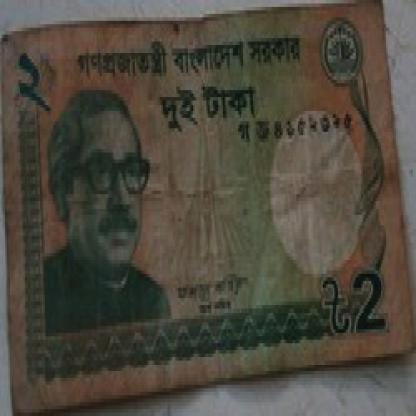two taka: (321, 260, 391, 354), (10, 42, 58, 146)
